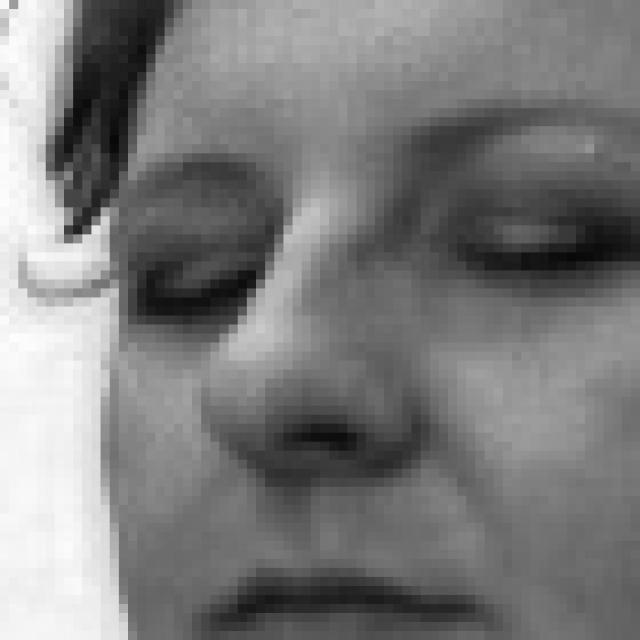real: (114, 28, 624, 615), (129, 184, 597, 314)
